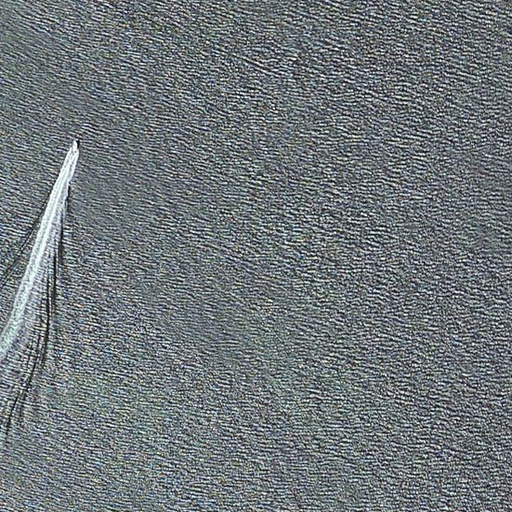ship: (66, 137, 81, 164)
